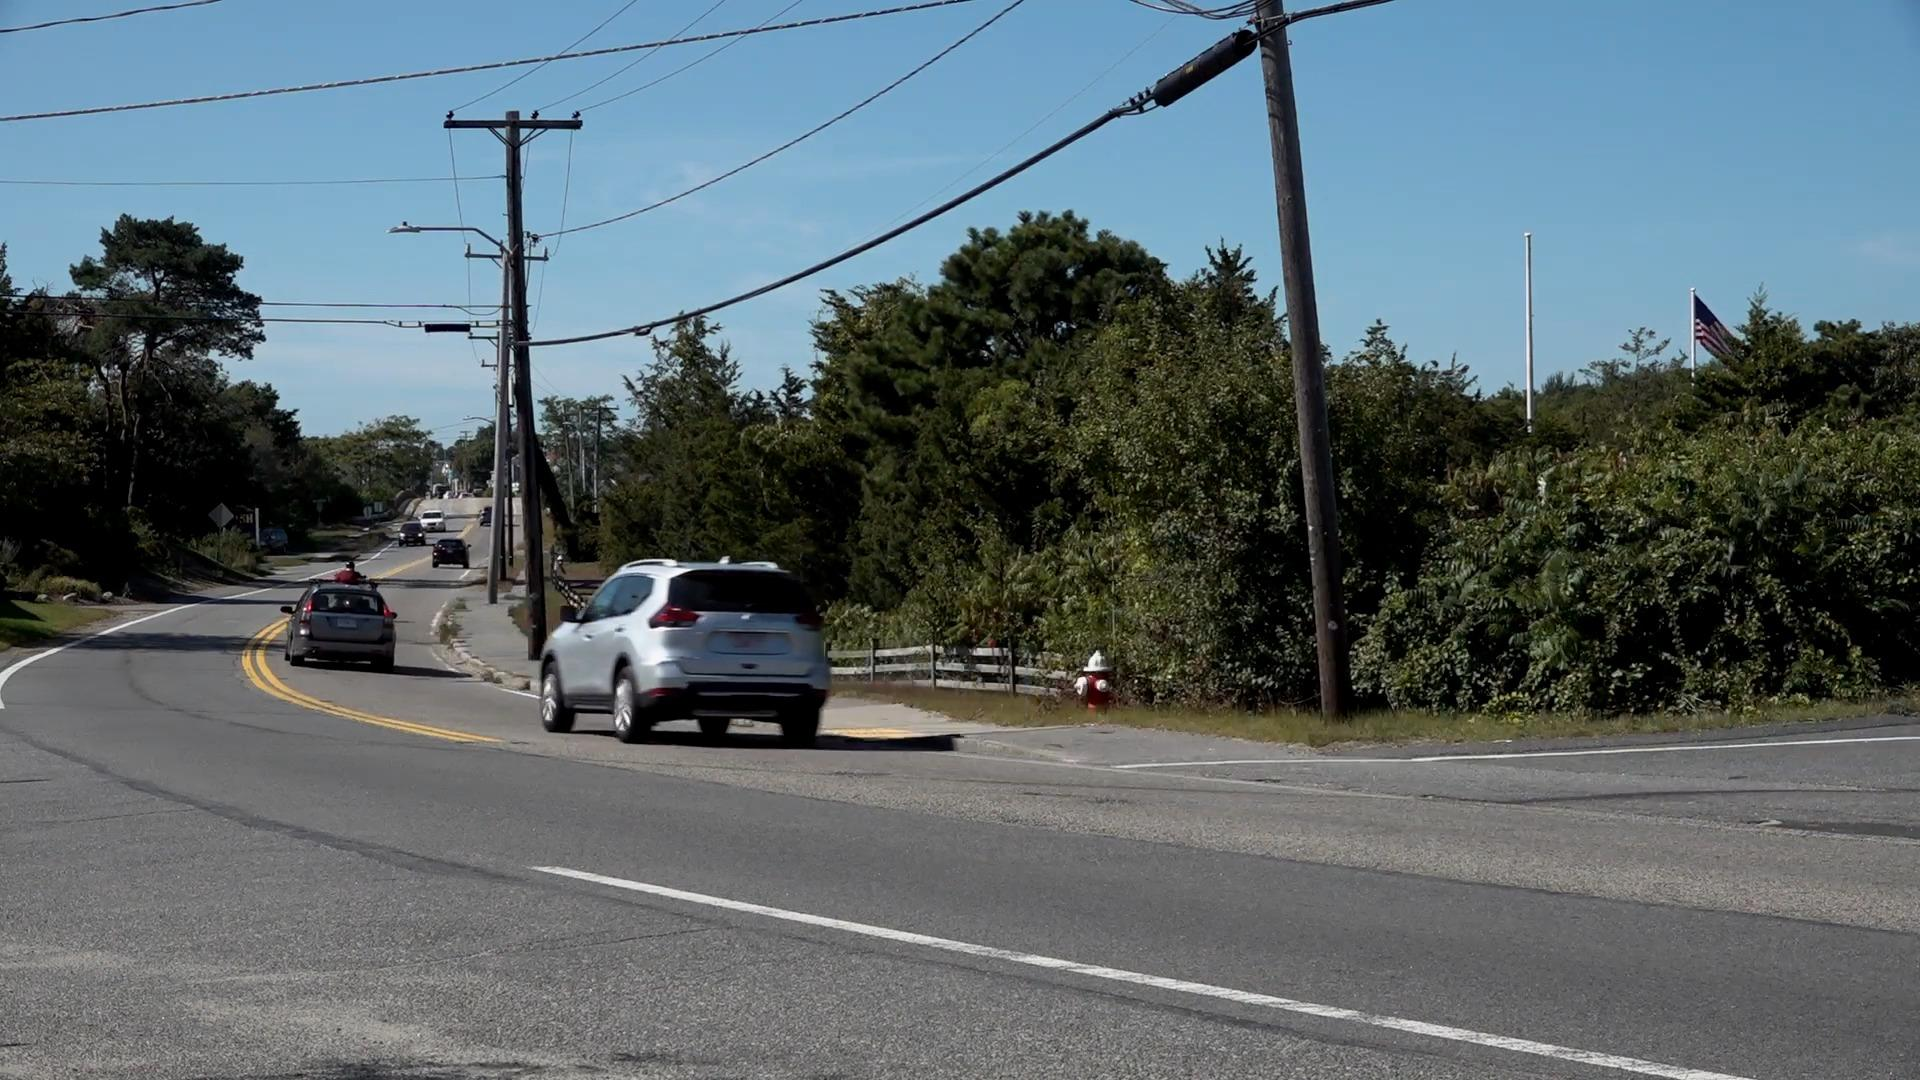suv: (535, 555, 825, 743)
